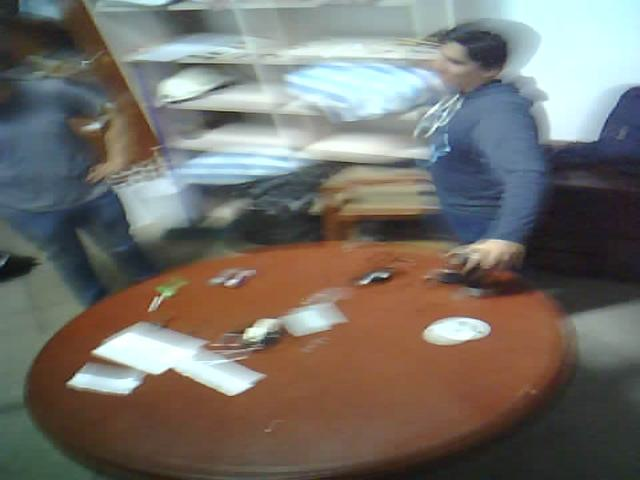person: (400, 12, 572, 330), (3, 42, 187, 326)
